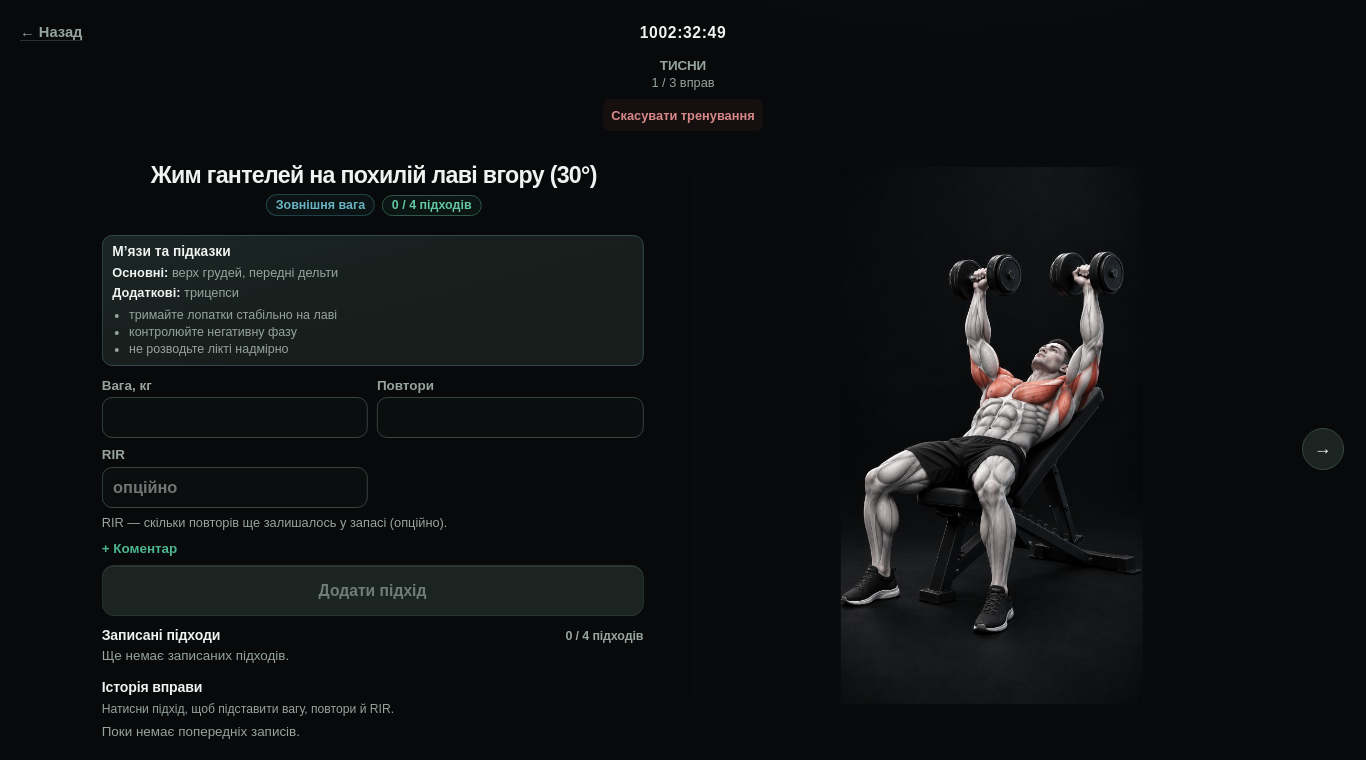
Live training session mobile UI › fails closed when the set-create draft cannot be persisted
This screenshot has width=1366, height=760.
expect the text "ТИСНИ" is shown: met, box [660, 58, 706, 73]
Type "30" into the field labelled "Вага, кг" at (235,418), box [102, 397, 368, 438]
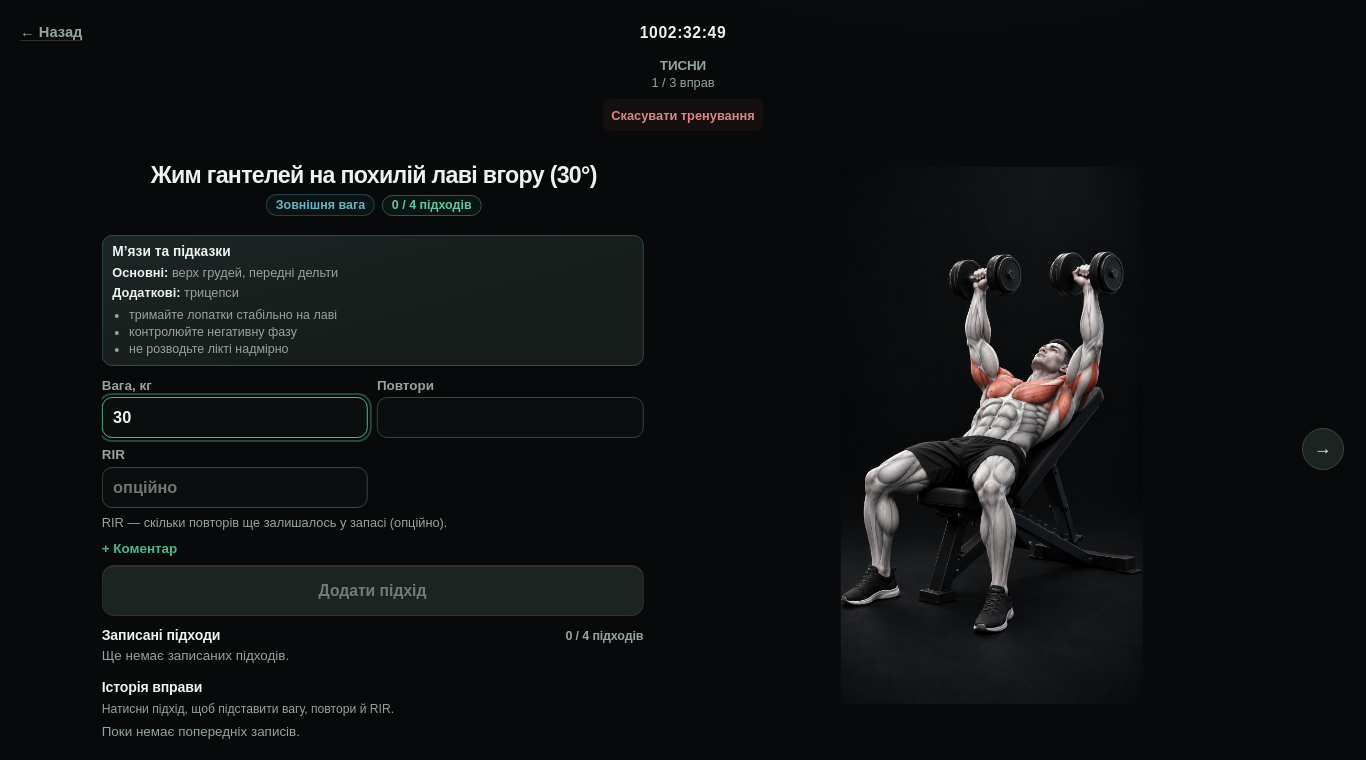
Type "12" into the field labelled "Повтори" at (510,418), box [377, 397, 644, 438]
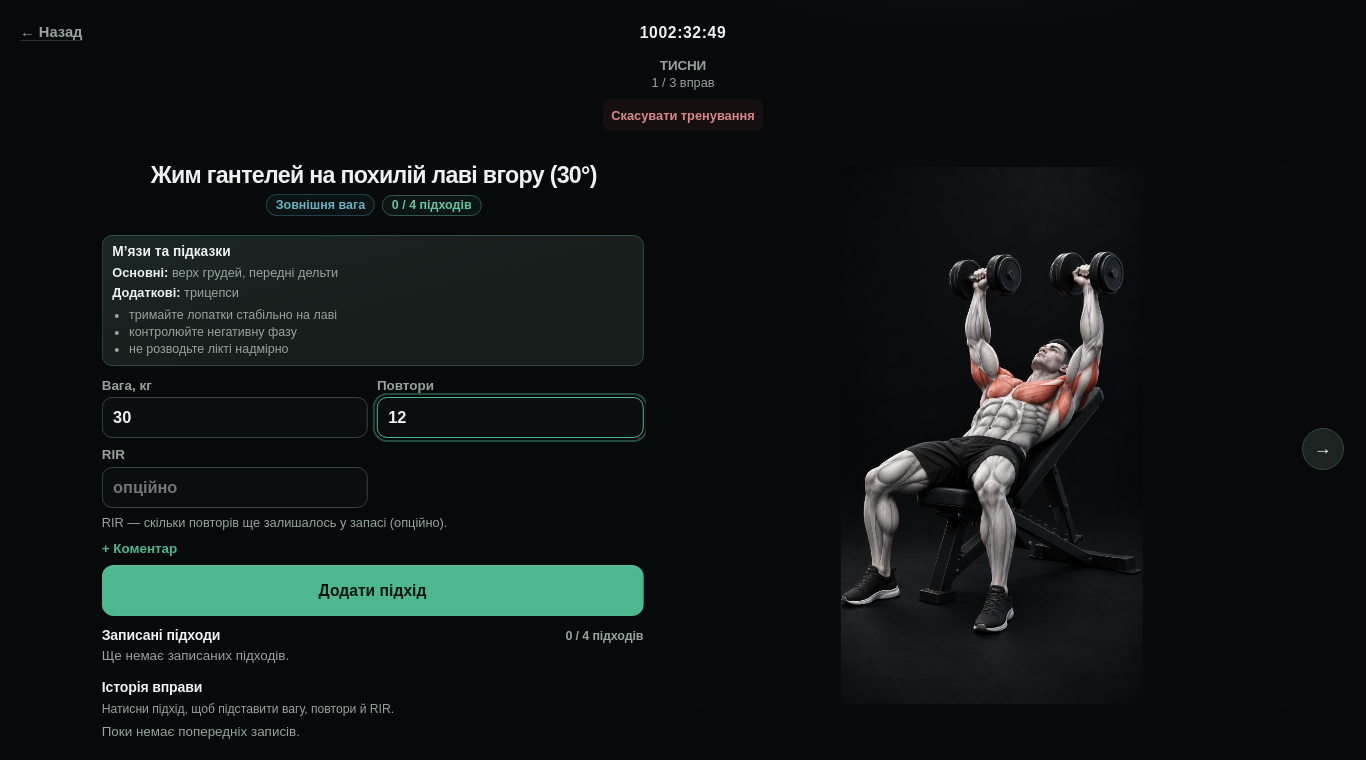
Click the button "Додати підхід" at (373,590), box [102, 565, 644, 616]
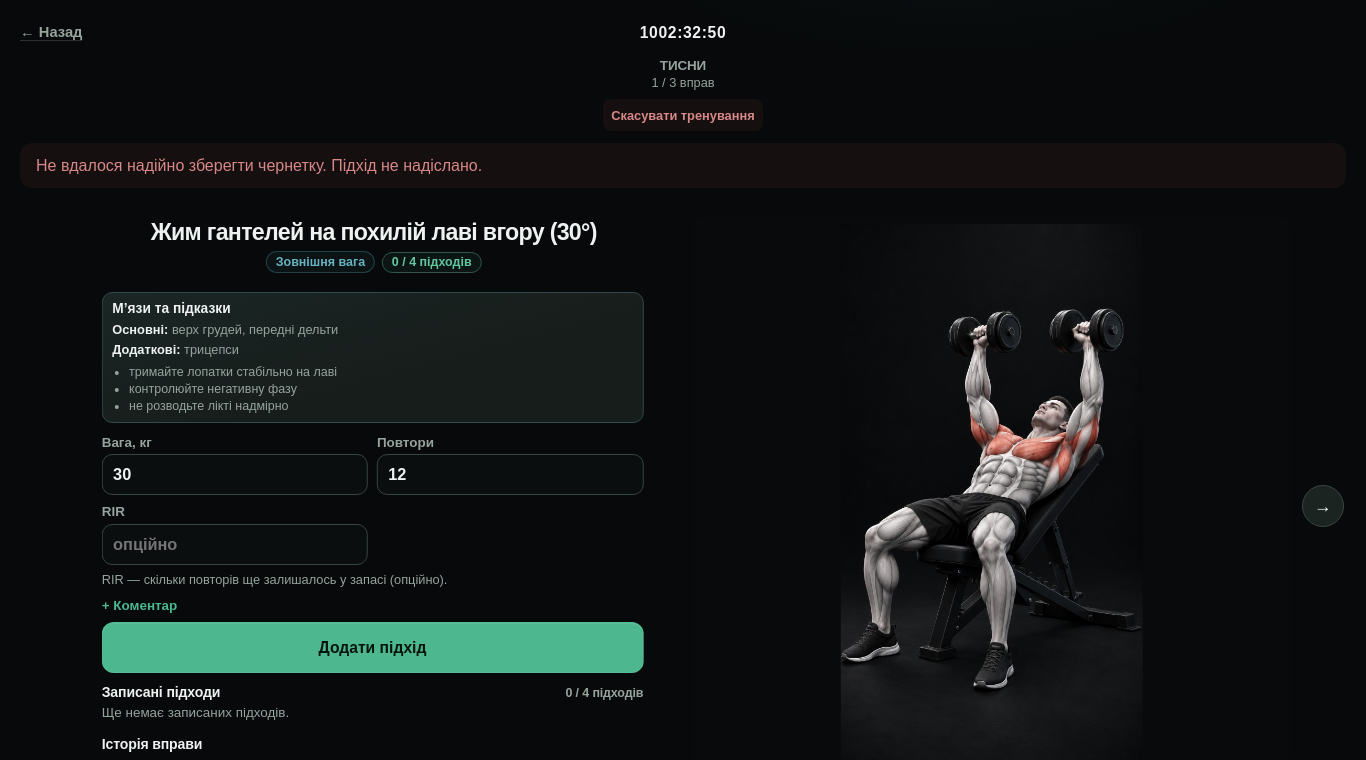
expect the message shows "Підхід не надіслано": met, box [36, 157, 482, 174]
